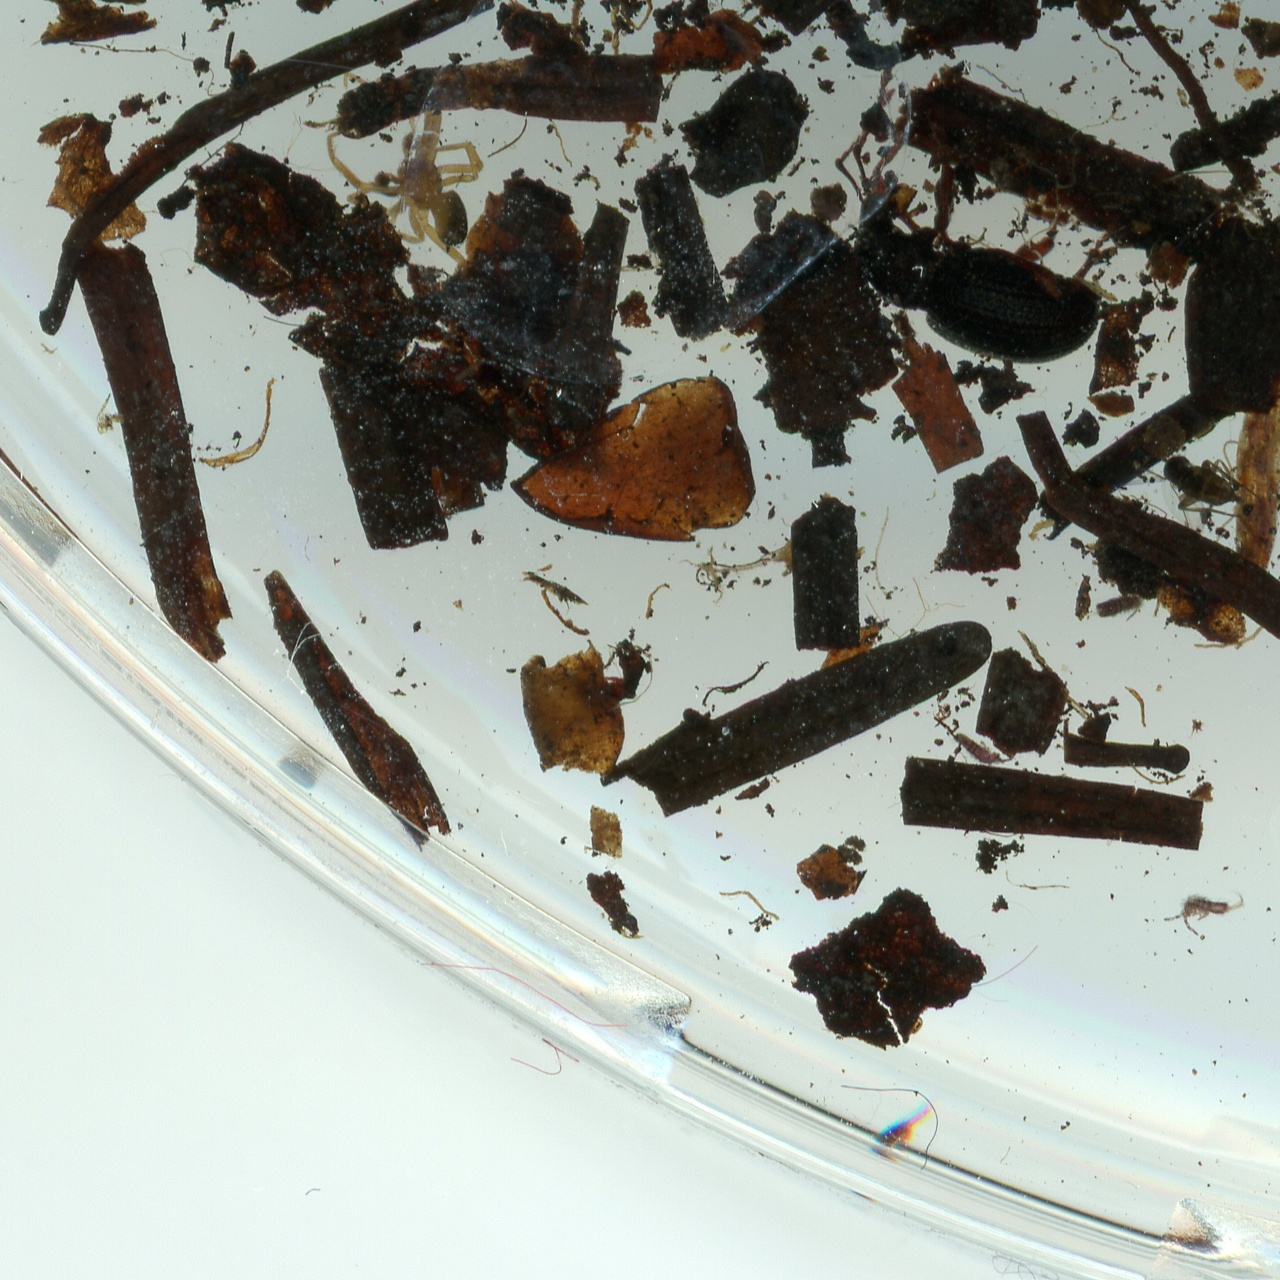arthropod: (853, 193, 1102, 363), (330, 134, 494, 267), (1159, 452, 1247, 519), (1163, 890, 1248, 939), (935, 715, 1012, 766), (870, 1102, 936, 1154)
